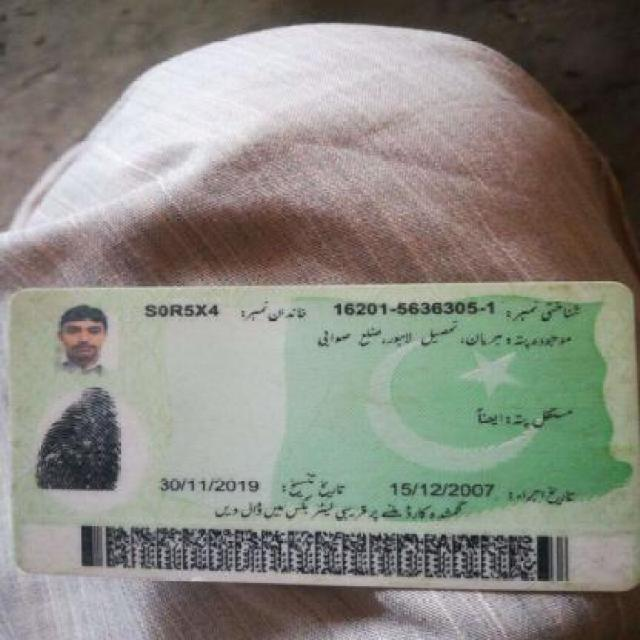Back: (17, 274, 629, 594)
